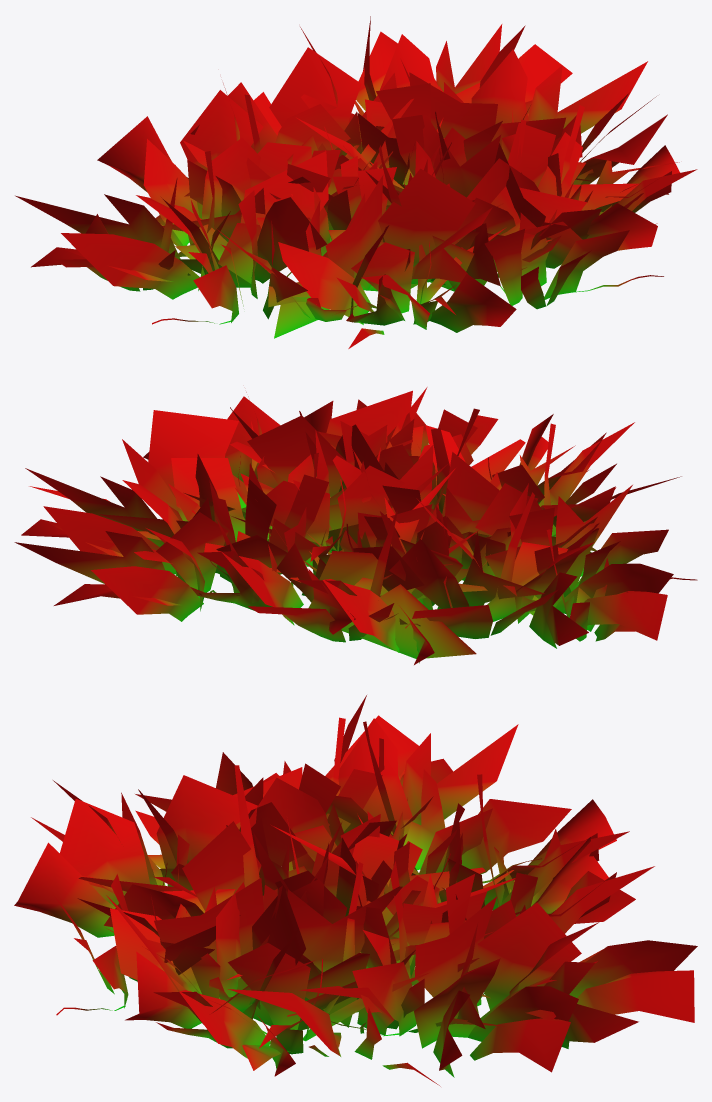
File: Tundra Grass_LOD4_Var26_wk2oaeyqx.fbx
3 views of the same model, one above another, from view 1: azimuth 30°, elevation 25°; view 2: azimuth 150°, elevation 25°; view 3: azimuth 270°, elevation 25° (orthographic). The views are drawn at different scales.
Parts seen in each view (by area): view 1: _hkxi_Var26_LOD4; view 2: _hkxi_Var26_LOD4; view 3: _hkxi_Var26_LOD4.
Boxes of the visible parts, x1,y1,x2,y2 form: _hkxi_Var26_LOD4: (15, 16, 697, 348); _hkxi_Var26_LOD4: (14, 387, 697, 664); _hkxi_Var26_LOD4: (14, 695, 697, 1086).
Size of the model in its own units: 95.39 by 22.5 by 78.04.
